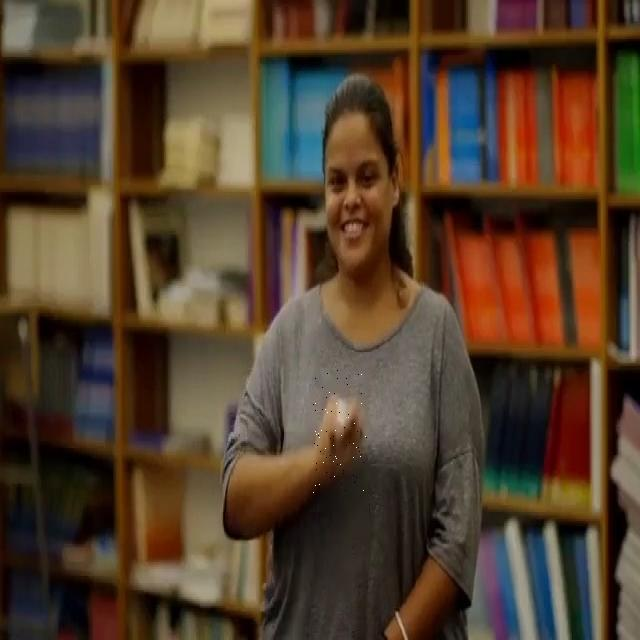icecream: (313, 370, 367, 494)
